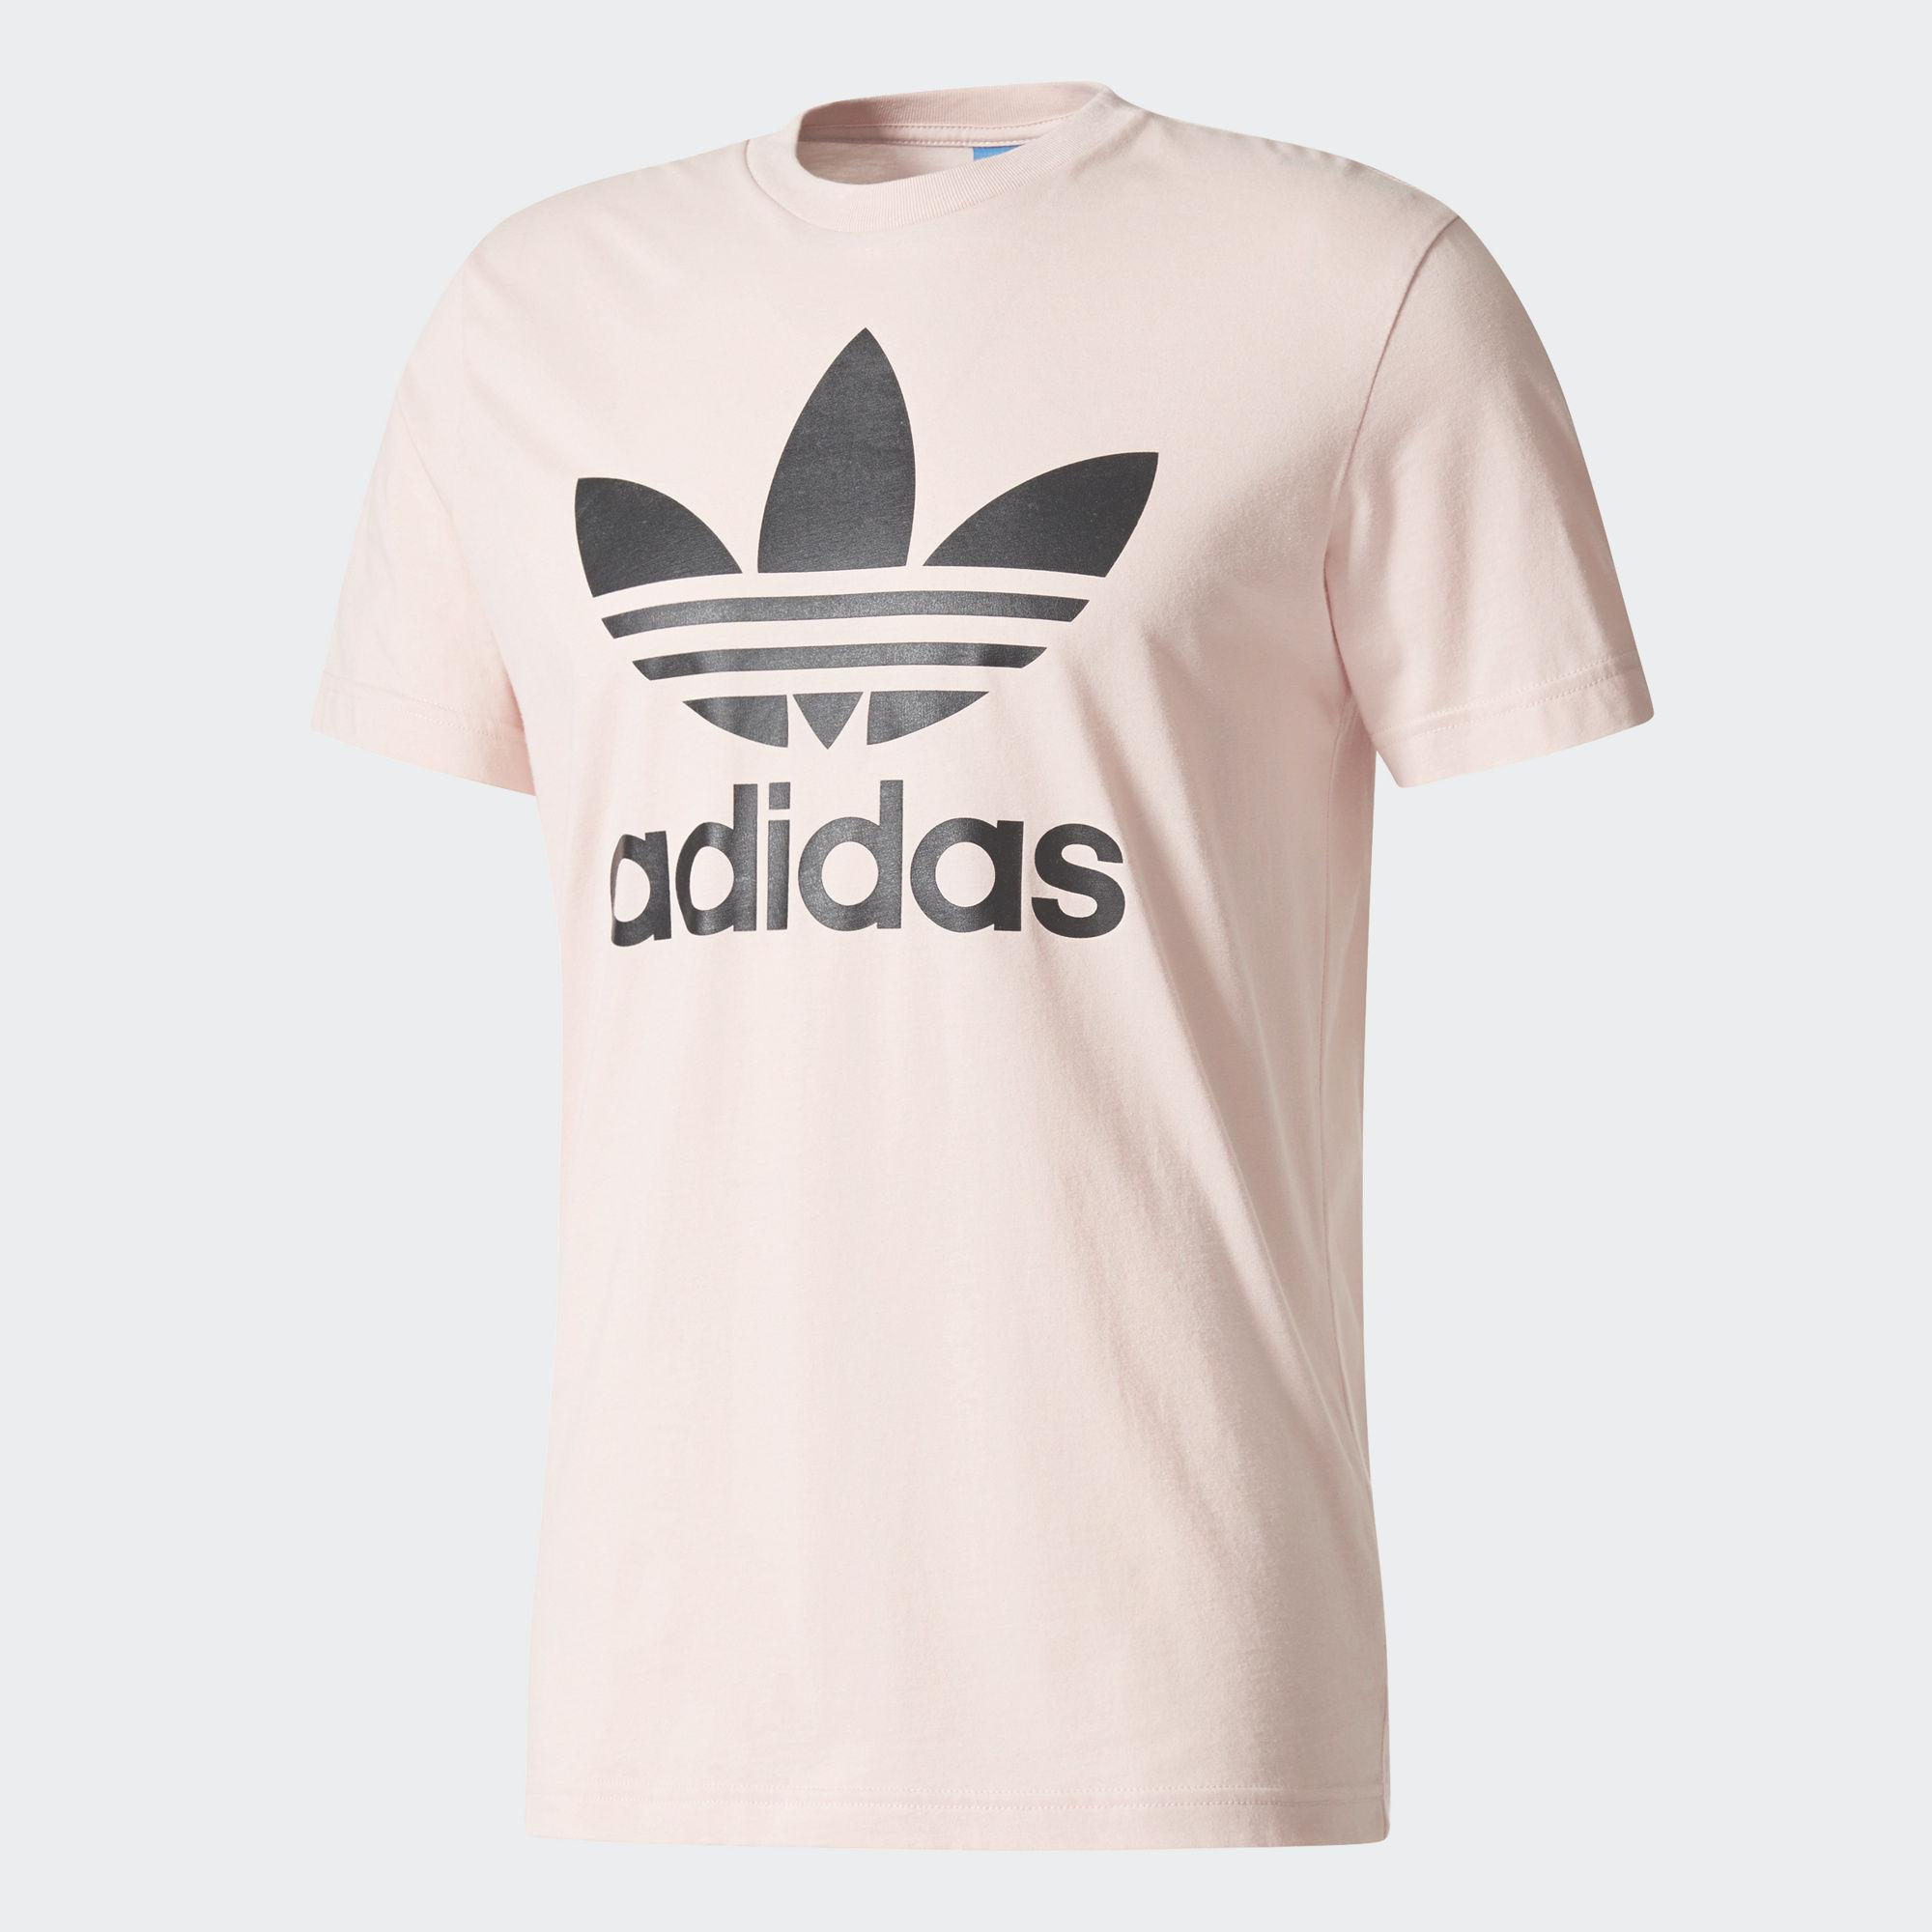teeshirt: (334, 50, 1684, 1858)
